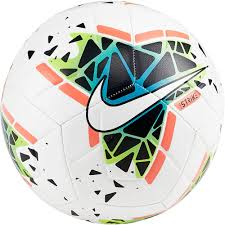top: (1, 1, 225, 224)
